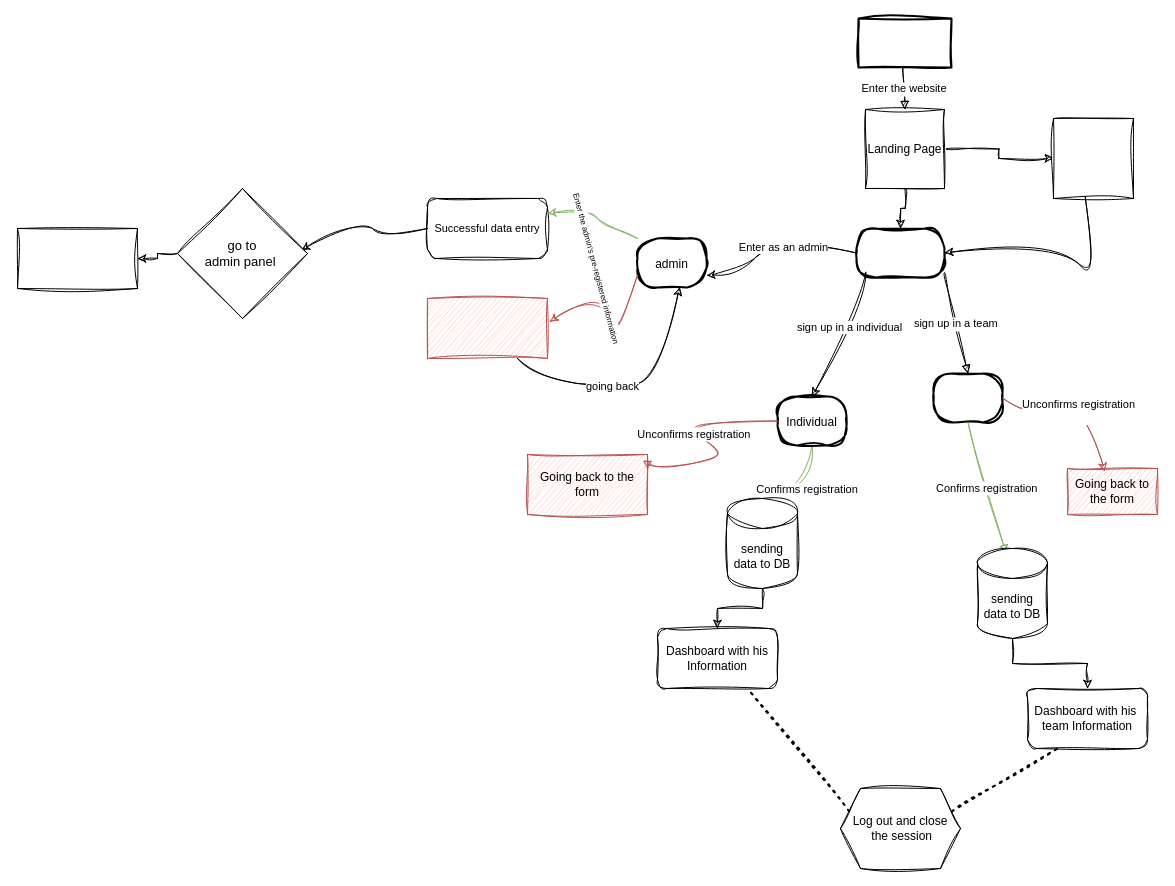
The diagram is 1175 pixels wide and 886 high, and some of its shapes have lost their labels. The shapes that lost their labels are listed below. From the top down, each one's centre as x and y in pixels, then its label:
the point at 904,42: User
the point at 1093,158: Tournament page
the point at 77,258: Editing Users points
the point at 900,252: Registration
the point at 487,328: Failure to enter data
the point at 967,397: Team
